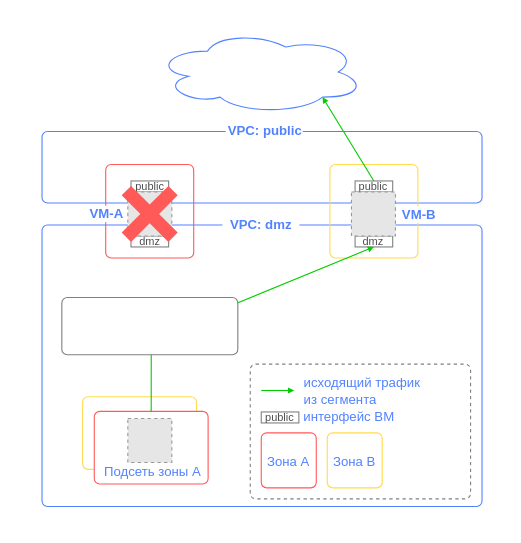
Image size: 521x543. Some labels were removed from this diagram. Grey dashed boxes stand in for pictures. Each missing label, with the centre of its shape:
"Интернет" belongs at (x=259, y=71).
"таблица маршрутизации next-hop VM-B" belongs at (x=149, y=325).
